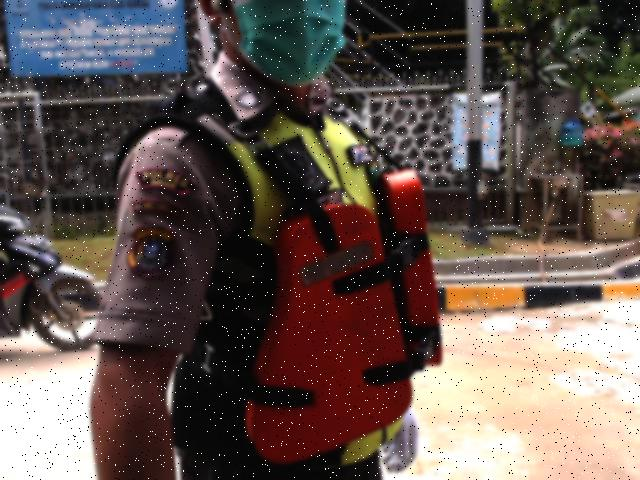gloves: (378, 399, 430, 475)
mask: (222, 0, 353, 83)
vest: (226, 168, 453, 450)
